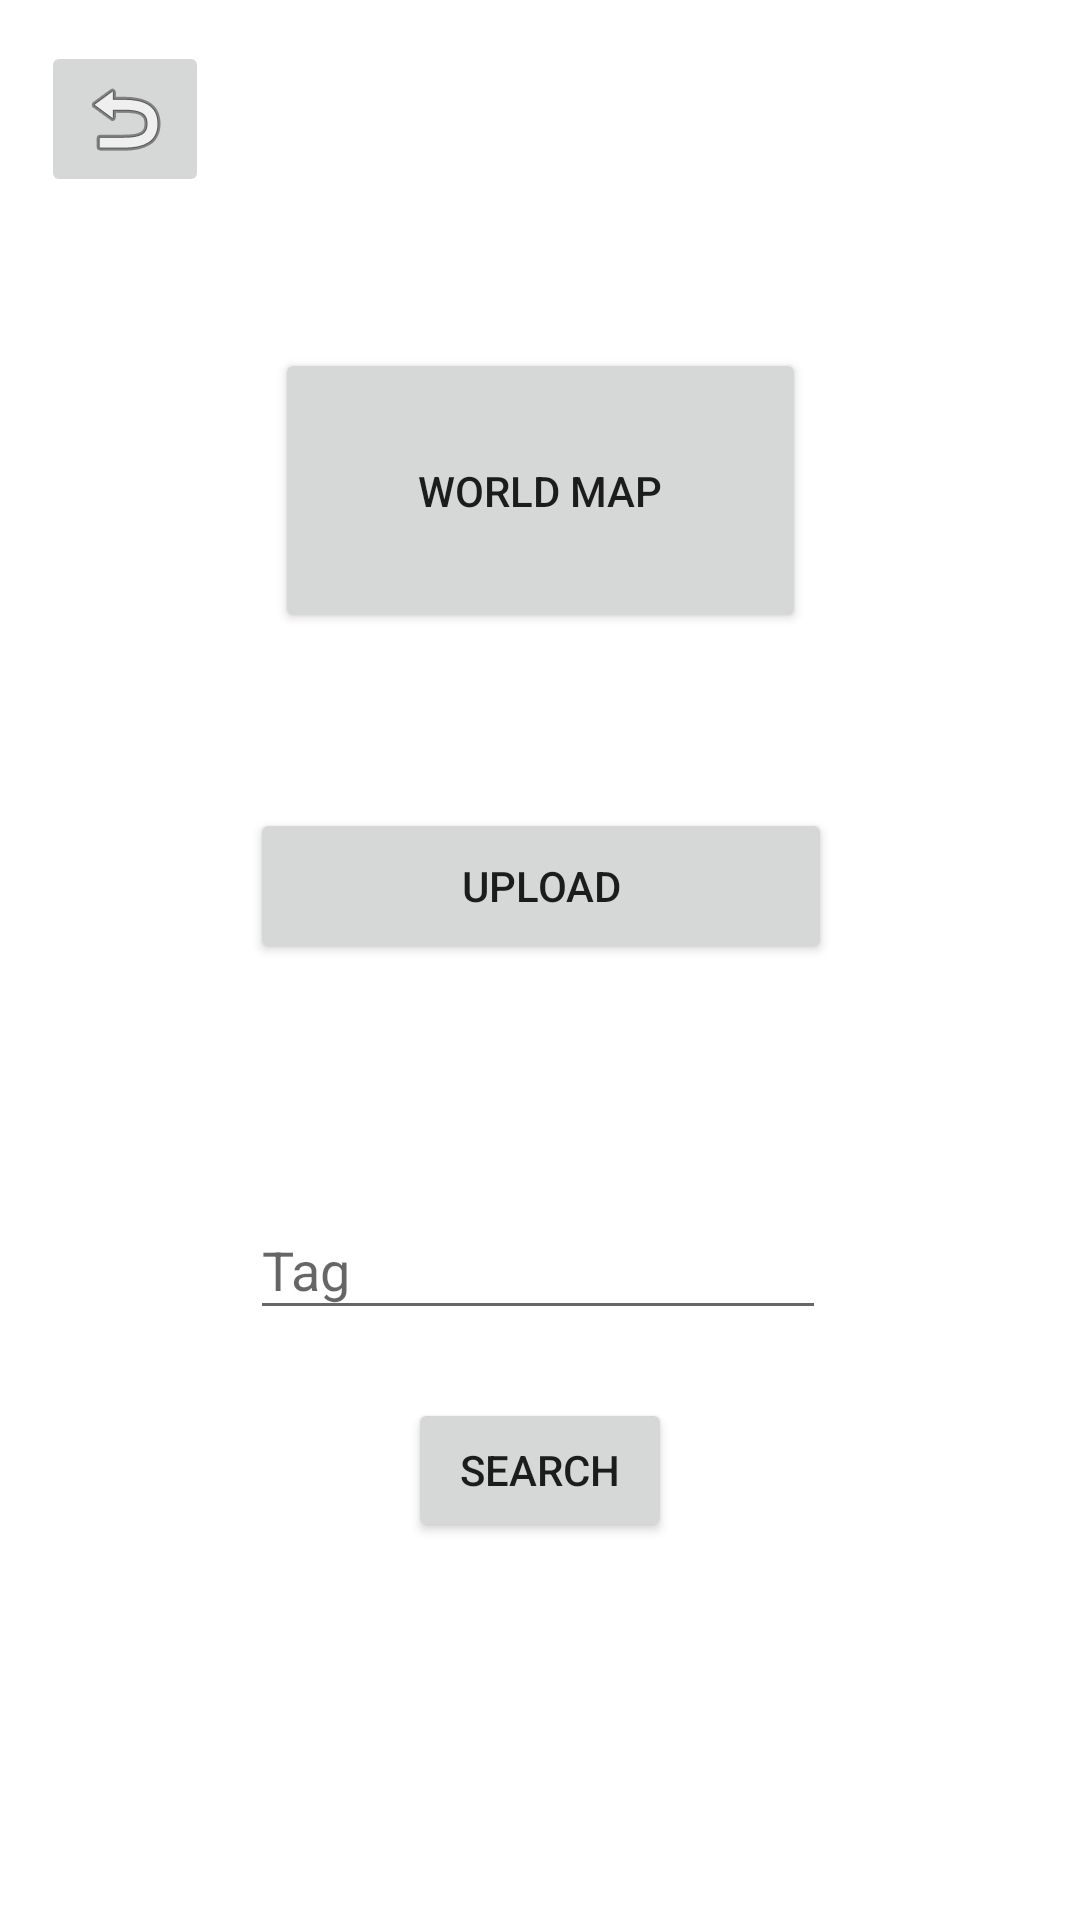

Icons on this 1080*1920 Android screen, each with its box as bbox(x1, y1, x2, y2):
revert: bbox(53, 59, 197, 179)
